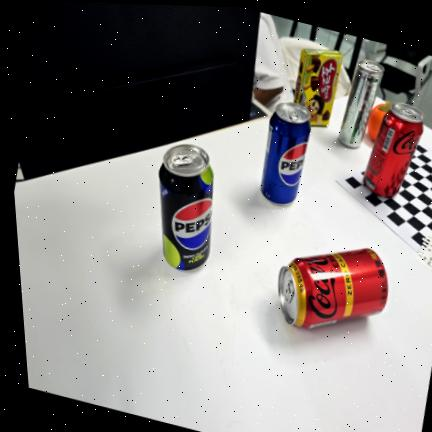can_coke_decaf: (277, 246, 387, 329)
can_pepsi: (258, 102, 309, 203)
can_pepsi_zero: (157, 142, 213, 274)
